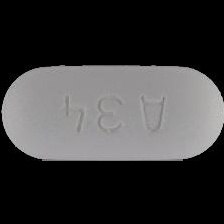65862-700: (0, 0, 224, 224)
